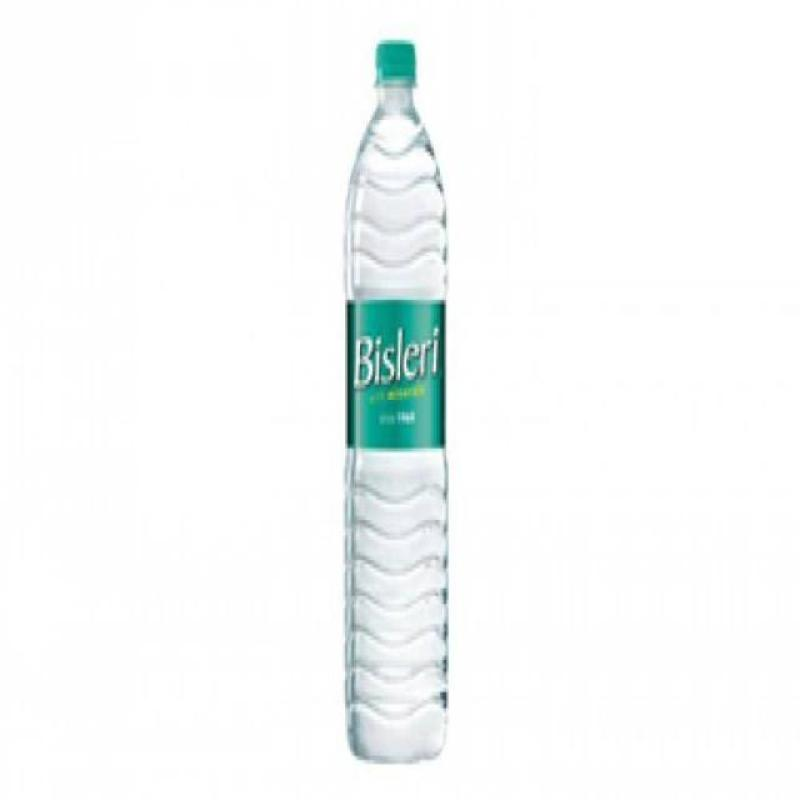botella: (346, 41, 448, 760)
